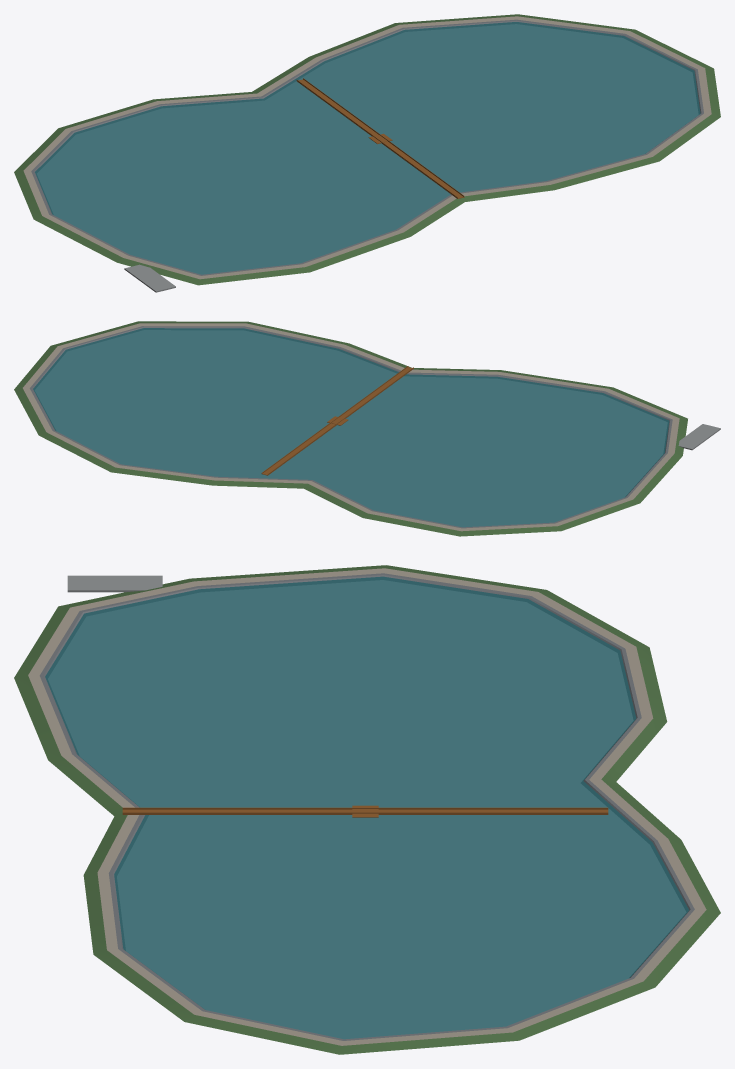
File: water_ho_than_tho.glb
3 renders of one model, top to bottom at view 1: azimuth 30°, elevation 25°; view 2: azimuth 150°, elevation 25°; view 3: azimuth 270°, elevation 25°, orthographic. The views are drawn at different scales.
Visible parts, largest first — view 1: water_surface_water_ho_than_tho, shoreline_terrain_transition_verge_water_ho_than_tho, lakeside_promenade_walkway_water_ho_than_tho, embankment_stone_coping_water_ho_than_tho, embankment_stone_slope_water_ho_than_tho, scenic_wooden_bridge_than_tho_deck, spillway_weir_southwest_than_tho; view 2: water_surface_water_ho_than_tho, shoreline_terrain_transition_verge_water_ho_than_tho, lakeside_promenade_walkway_water_ho_than_tho, embankment_stone_coping_water_ho_than_tho, embankment_stone_slope_water_ho_than_tho, scenic_wooden_bridge_than_tho_deck, spillway_weir_southwest_than_tho; view 3: water_surface_water_ho_than_tho, shoreline_terrain_transition_verge_water_ho_than_tho, lakeside_promenade_walkway_water_ho_than_tho, embankment_stone_coping_water_ho_than_tho, embankment_stone_slope_water_ho_than_tho, scenic_wooden_bridge_than_tho_deck, spillway_weir_southwest_than_tho, scenic_wooden_bridge_than_tho_railing_w, scenic_wooden_bridge_than_tho_railing_e.
Boxes of the visible parts, x1=… form: water_surface_water_ho_than_tho: x1=35, y1=22, x2=700, y2=274; shoreline_terrain_transition_verge_water_ho_than_tho: x1=14, y1=14, x2=720, y2=285; lakeside_promenade_walkway_water_ho_than_tho: x1=23, y1=16, x2=711, y2=279; embankment_stone_coping_water_ho_than_tho: x1=31, y1=19, x2=703, y2=275; embankment_stone_slope_water_ho_than_tho: x1=34, y1=20, x2=701, y2=214; scenic_wooden_bridge_than_tho_deck: x1=297, y1=79, x2=464, y2=198; spillway_weir_southwest_than_tho: x1=124, y1=264, x2=175, y2=292; water_surface_water_ho_than_tho: x1=33, y1=328, x2=669, y2=527; shoreline_terrain_transition_verge_water_ho_than_tho: x1=14, y1=321, x2=687, y2=536; lakeside_promenade_walkway_water_ho_than_tho: x1=23, y1=323, x2=679, y2=531; embankment_stone_coping_water_ho_than_tho: x1=29, y1=326, x2=672, y2=528; embankment_stone_slope_water_ho_than_tho: x1=32, y1=327, x2=670, y2=496; scenic_wooden_bridge_than_tho_deck: x1=262, y1=367, x2=413, y2=475; spillway_weir_southwest_than_tho: x1=678, y1=424, x2=720, y2=450; water_surface_water_ho_than_tho: x1=45, y1=576, x2=689, y2=1039; shoreline_terrain_transition_verge_water_ho_than_tho: x1=14, y1=565, x2=720, y2=1054; lakeside_promenade_walkway_water_ho_than_tho: x1=28, y1=568, x2=706, y2=1045; embankment_stone_coping_water_ho_than_tho: x1=39, y1=573, x2=694, y2=1040; embankment_stone_slope_water_ho_than_tho: x1=44, y1=575, x2=690, y2=977; scenic_wooden_bridge_than_tho_deck: x1=122, y1=809, x2=608, y2=814; spillway_weir_southwest_than_tho: x1=67, y1=575, x2=162, y2=592; scenic_wooden_bridge_than_tho_railing_w: x1=122, y1=807, x2=608, y2=809; scenic_wooden_bridge_than_tho_railing_e: x1=122, y1=812, x2=608, y2=814.
Bounding box in the file's own units: 463 × 2.62 × 282.
